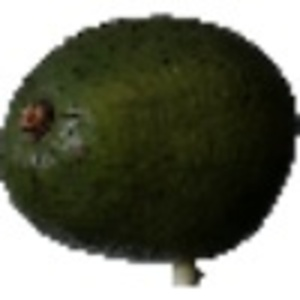abacate: (1, 13, 298, 256)
